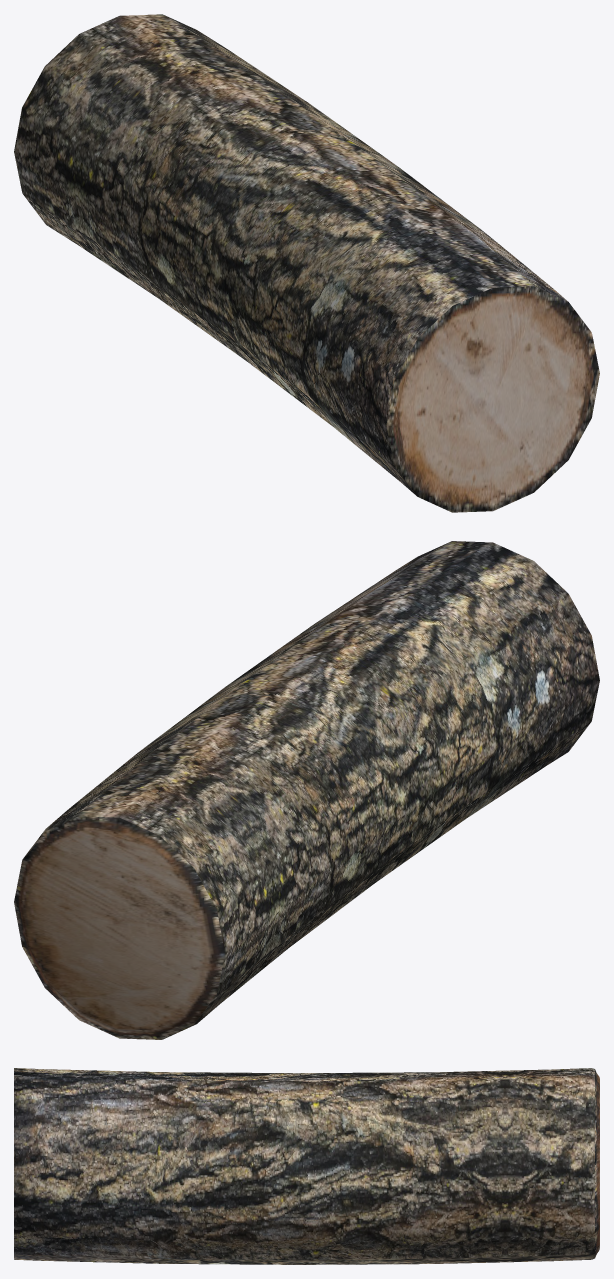
Rendered from log3.fbx.
3 renders of one model, top to bottom at view 1: azimuth 30°, elevation 25°; view 2: azimuth 150°, elevation 25°; view 3: azimuth 270°, elevation 25°, orthographic. The views are drawn at different scales.
Parts seen in each view (by area): view 1: Log04; view 2: Log04; view 3: Log04.
Boxes of the visible parts, box(x1,y1,x2,y2) form: Log04: box(14, 14, 599, 512); Log04: box(14, 541, 599, 1039); Log04: box(14, 1068, 599, 1264).
Bounding box in the file's own units: 1.48 × 4.28 × 1.41.
1 material, 1 textured.
